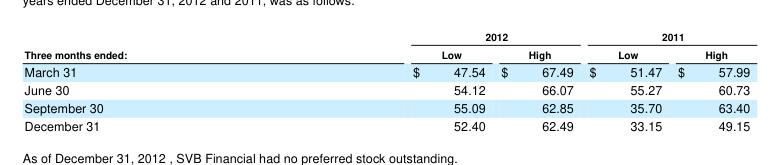table: (23, 29, 749, 133)
table column: (23, 29, 269, 133), (269, 29, 492, 133), (580, 29, 669, 133), (492, 29, 580, 133), (669, 29, 749, 133)
table column header: (23, 29, 749, 62)
table row: (23, 62, 749, 80), (23, 80, 749, 98), (23, 98, 749, 116), (23, 45, 749, 62), (23, 116, 749, 133), (23, 29, 749, 45)
table spanning cell: (23, 29, 269, 62), (269, 29, 580, 45), (580, 29, 749, 45)
